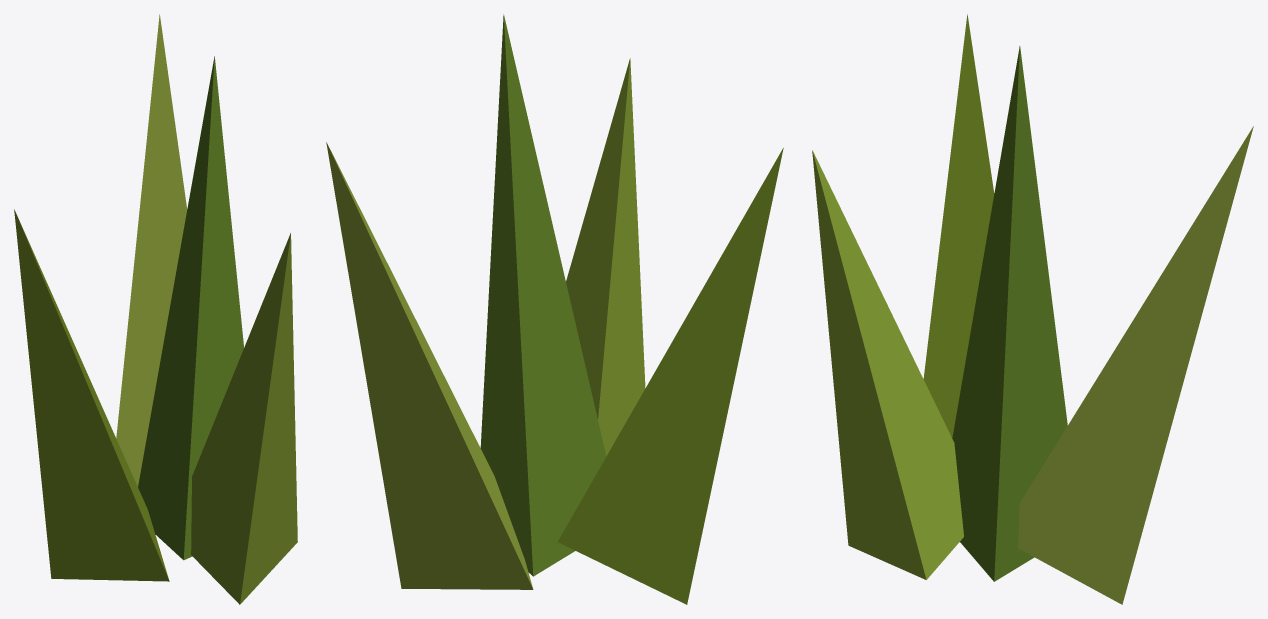
File: p_gtuft_2.glb
3 views of the same model, side by side, from view 1: azimuth 30°, elevation 25°; view 2: azimuth 150°, elevation 25°; view 3: azimuth 270°, elevation 25° (orthographic). The views are drawn at different scales.
Visible parts, largest first — view 1: body; view 2: body; view 3: body.
Boxes of the visible parts, x1=… form: body: x1=14, y1=14, x2=297, y2=604; body: x1=326, y1=14, x2=783, y2=604; body: x1=812, y1=14, x2=1253, y2=604.
Bounding box in the file's own units: 0.2545 × 0.429 × 0.3205.
